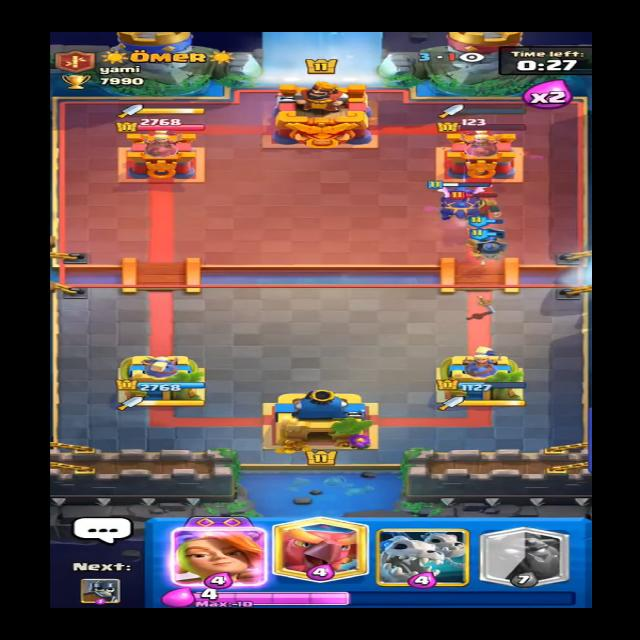knight: (439, 184, 506, 226)
